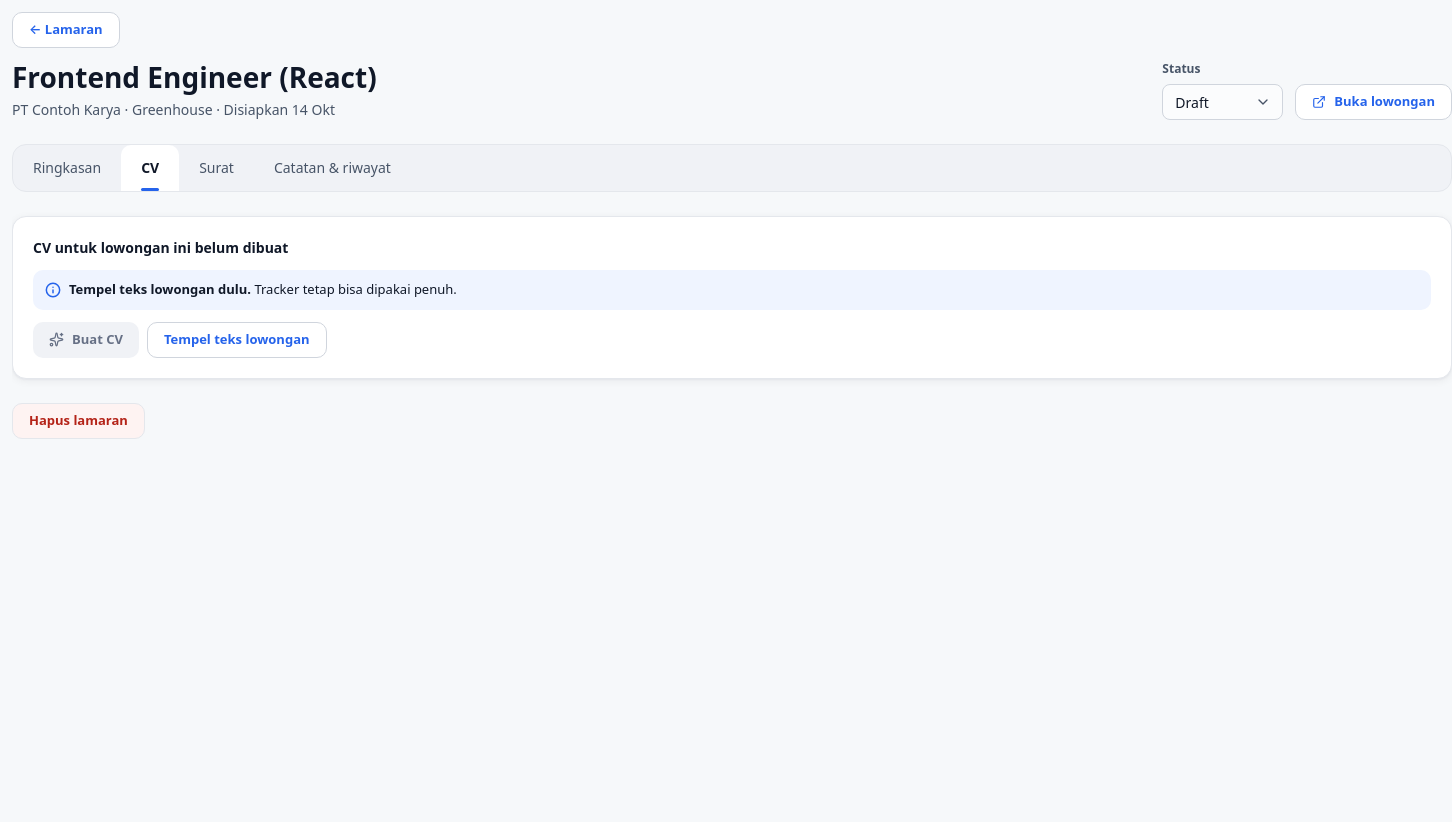
Scenario: CV tab wiring (T48) › takes the person to the Ringkasan tab to paste the posting text, and leaves the page for the other links
Click the button "Tempel teks lowongan": (237, 340) [147,322,326,358]
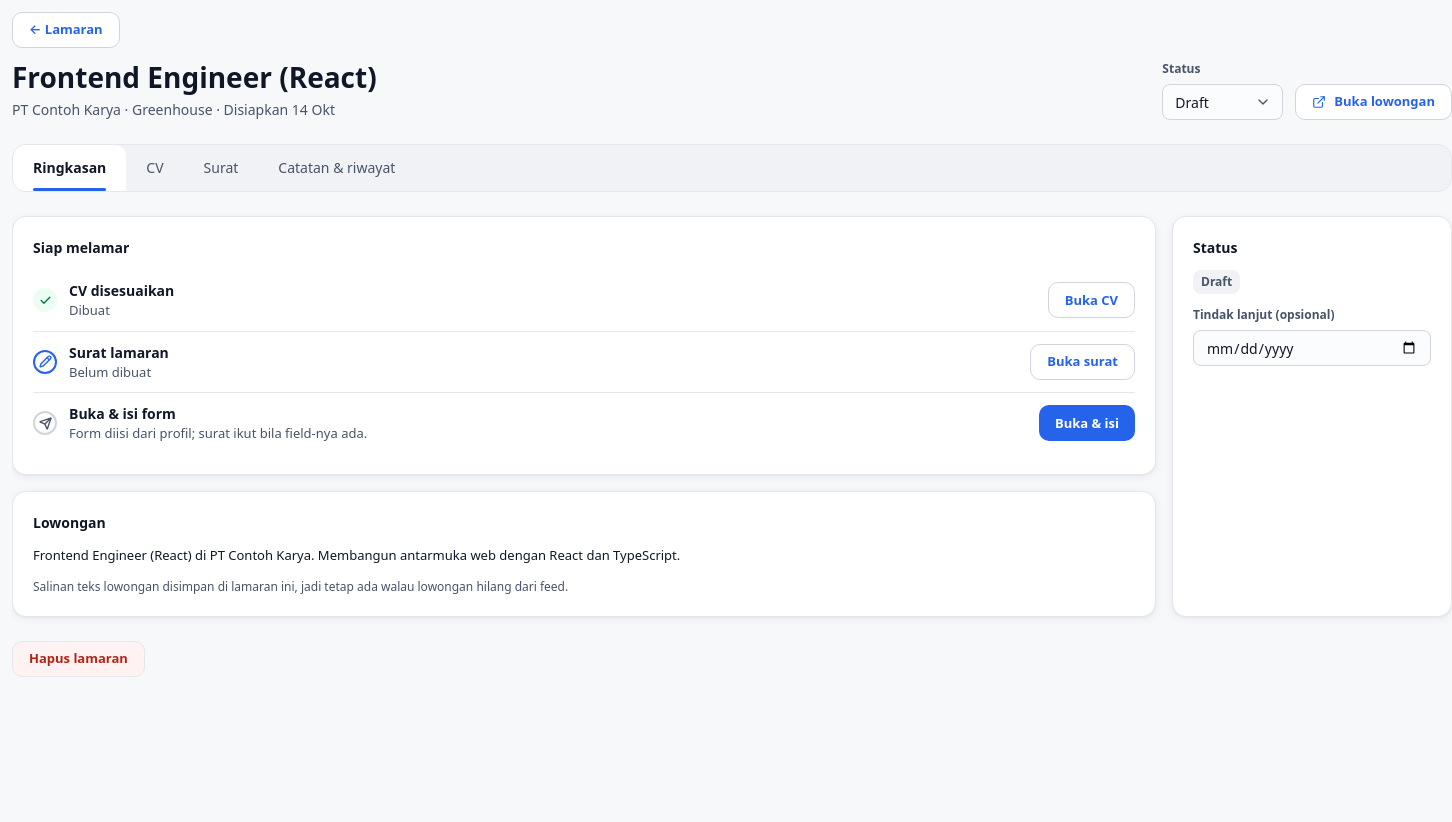
Expected: the text "Siap melamar" is shown, [33,238,129,257]
Expected: the text "CV untuk lowongan ini belum dibuat" is gone
